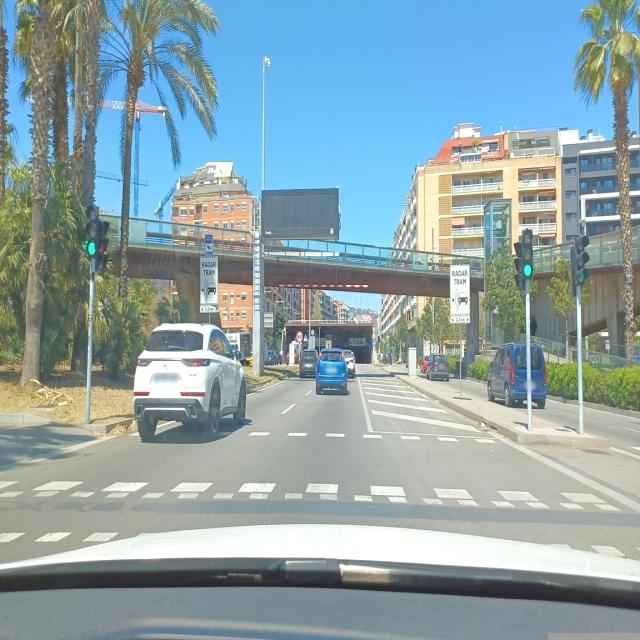car: (132, 322, 248, 442), (487, 342, 548, 408), (315, 348, 348, 396), (299, 347, 319, 379), (428, 354, 450, 382), (342, 350, 357, 379), (419, 354, 434, 377), (400, 352, 408, 364)
